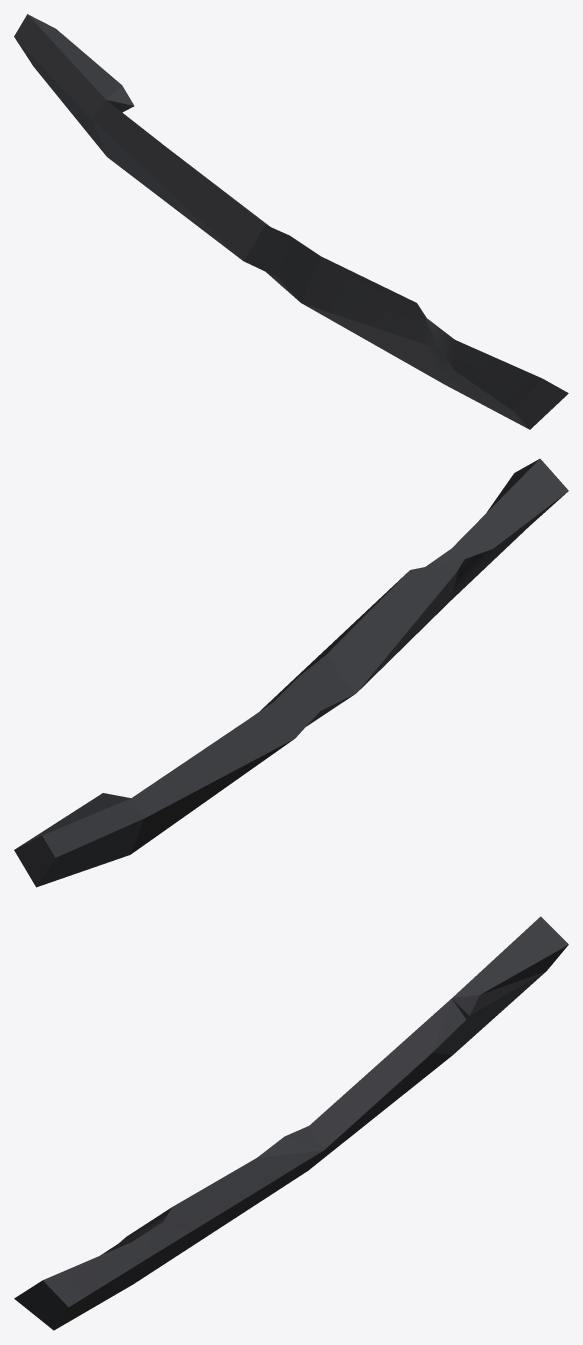
Rendered from SM_L_G_Home_Pillar_roof.fbx.
The picture shows the model from 3 angles, top to bottom: view 1: azimuth 30°, elevation 25°; view 2: azimuth 150°, elevation 25°; view 3: azimuth 330°, elevation 25°; orthographic projection.
Visible parts, largest first — view 1: SM_L_G_Home_pillar_roof; view 2: SM_L_G_Home_pillar_roof; view 3: SM_L_G_Home_pillar_roof.
Boxes of the visible parts, x1,y1,x2,y2 form: SM_L_G_Home_pillar_roof: (14, 14, 568, 429); SM_L_G_Home_pillar_roof: (14, 458, 568, 887); SM_L_G_Home_pillar_roof: (14, 916, 568, 1330).
Size of the model in its own units: 0.3326 by 0.5227 by 5.31.
